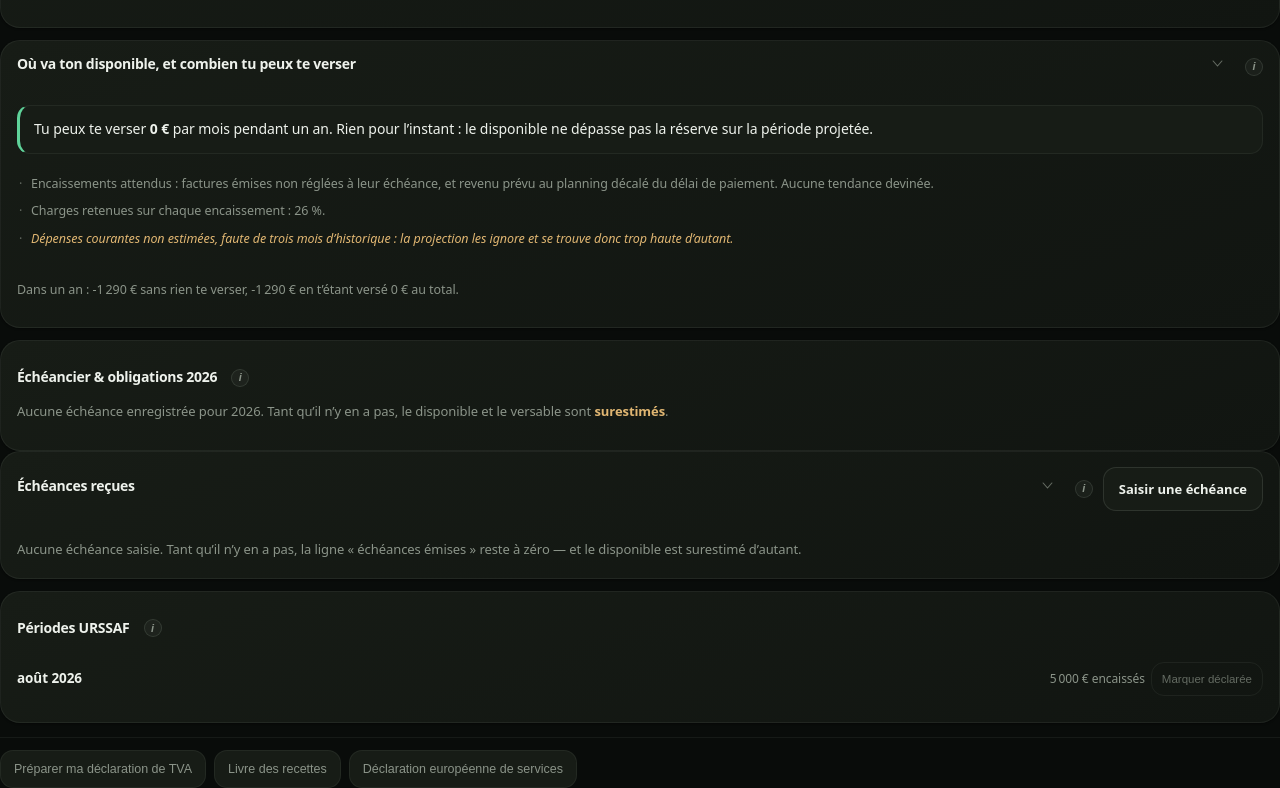
dossier de déclaration de TVA › liste les factures précises concernées
(page scrolled)
Click the button "Préparer ma déclaration de TVA": (103,768) [0, 750, 206, 787]
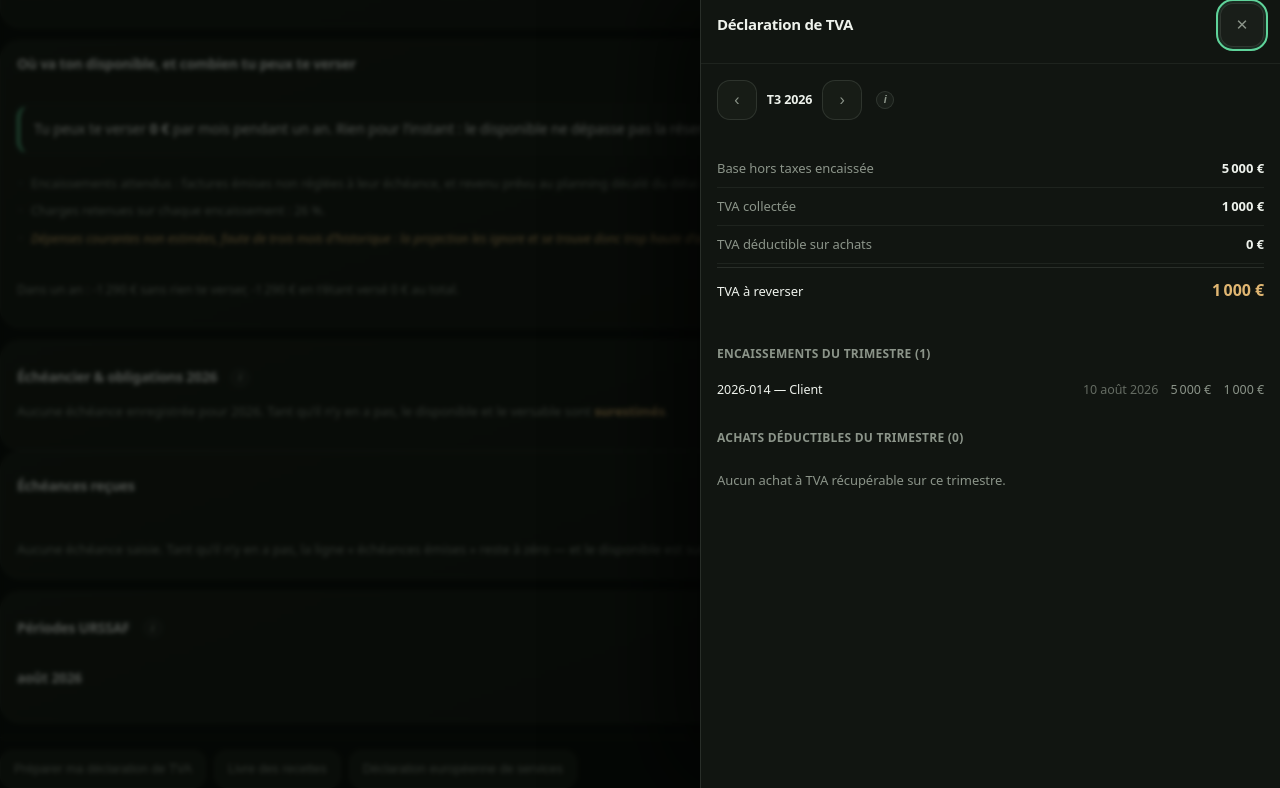
Now the text "2026-014 — Client" is shown, box [717, 381, 822, 398]
